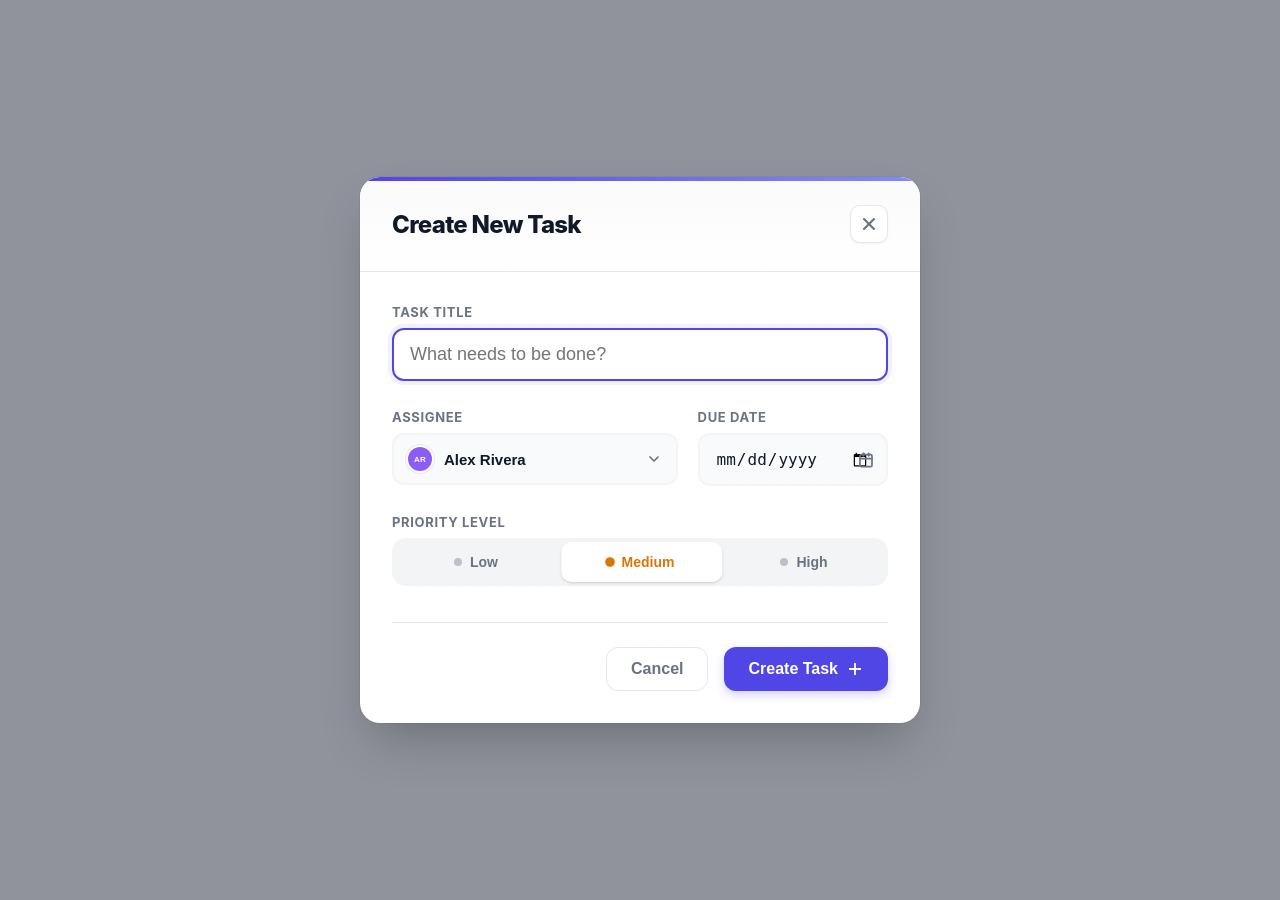
Scenario: NewTaskModal – assignee dropdown › closes dropdown on Escape and keeps previous selection
Click the button named "Assignee": click(485, 459) [392, 433, 678, 485]
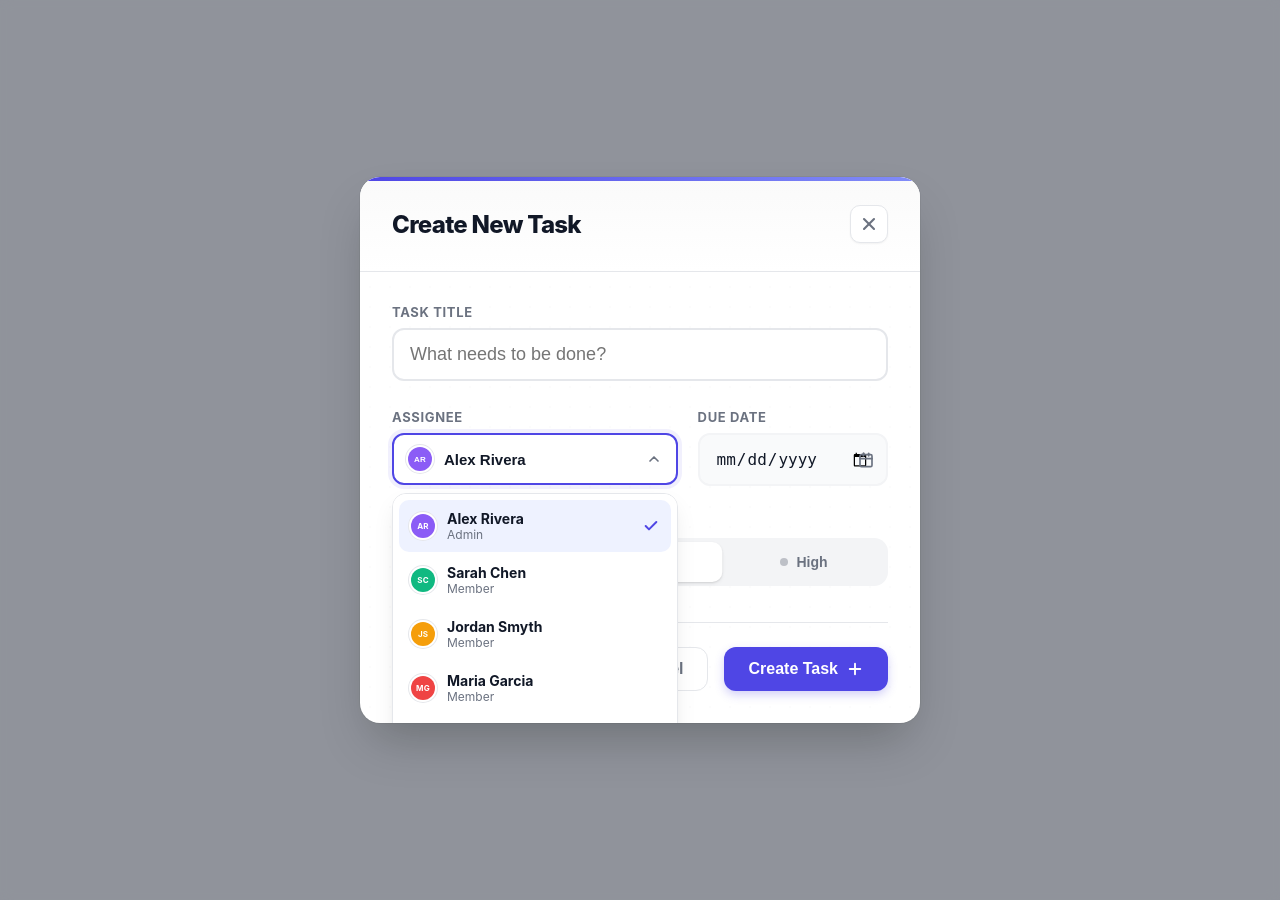
Expected: the list is shown, [392, 493, 678, 723]
Press Escape
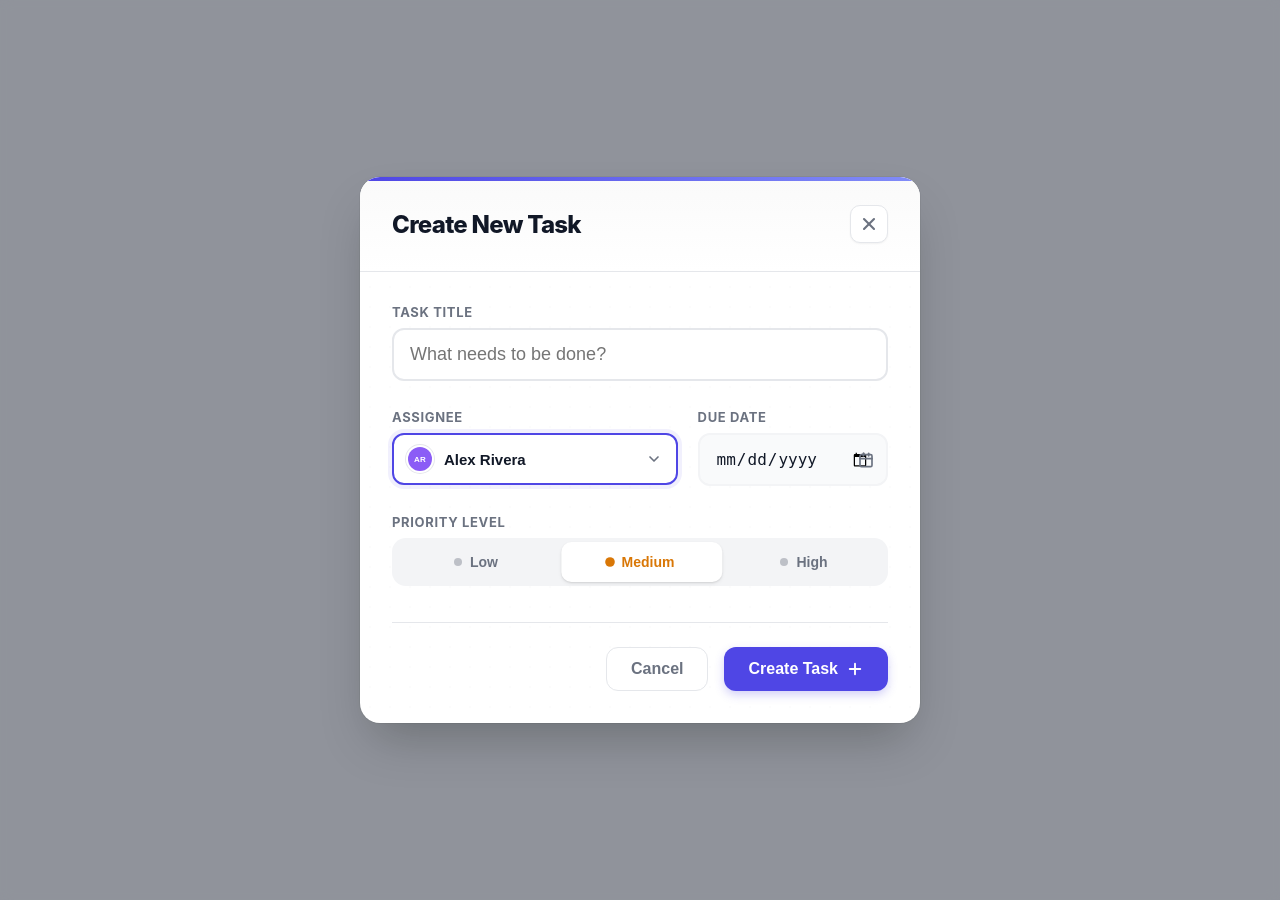
Expected: the text "Alex Rivera" is shown, [444, 450, 526, 468]
Expected: the list is gone
